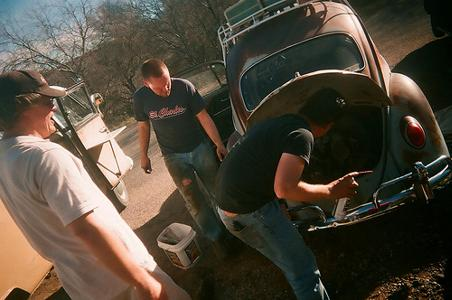person: (211, 84, 376, 300)
